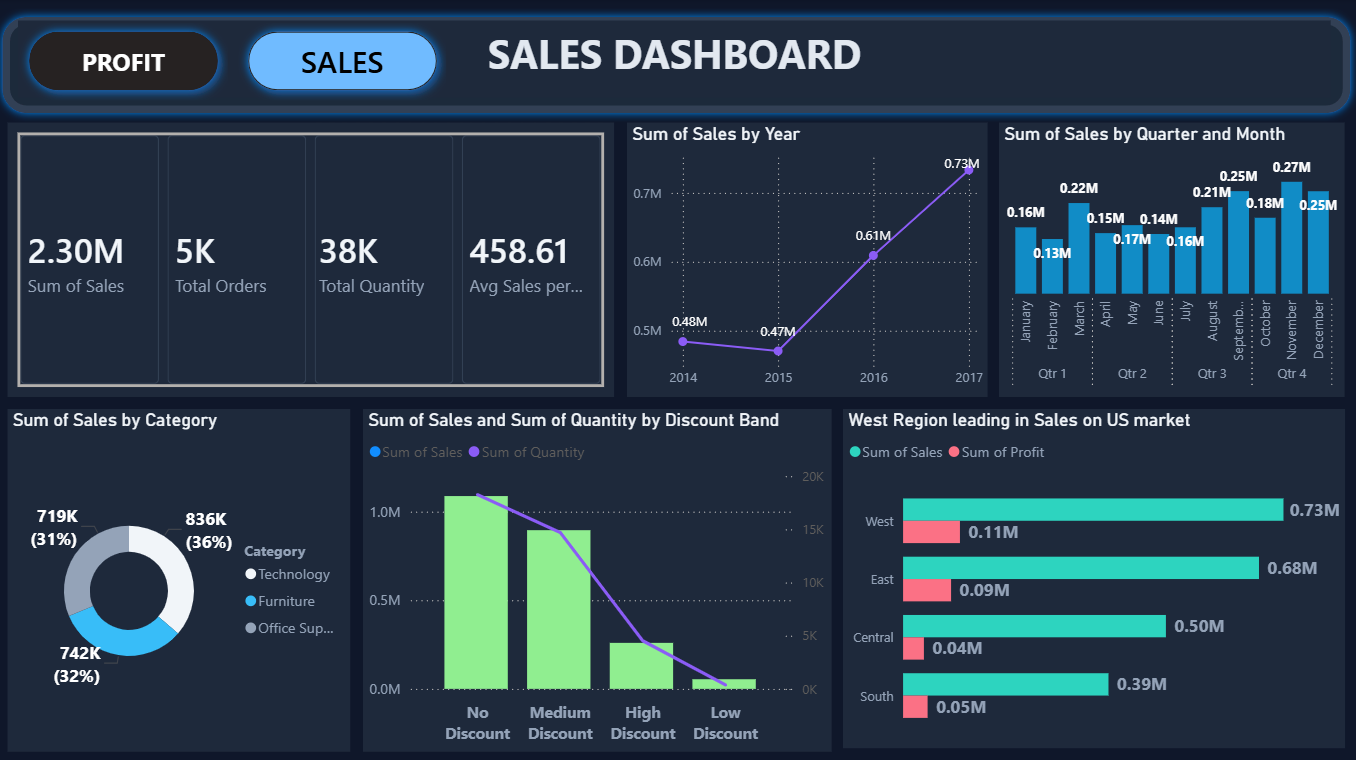

What the dashboard file says about the page in this screenshot:
{"tool":"powerbi","page":{"name":"Page 4","canvas":[1280,720],"ordinal":1},"visuals":[{"type":"shape","box":[0,0,1279.5,720],"z":0},{"type":"shape","box":[0.5,10,1279.5,106],"z":1000},{"type":"textbox","box":[23.1,21.5,1230.8,72.3],"z":2000},{"type":"bookmarkNavigator","box":[23.4,21.8,400.5,73.2],"z":3000},{"type":"donutChart","fields":{"Category":["Sample - Superstore (3).Category"],"Y":["Sum(data.Sales)"]},"box":[12.5,360,321,346],"z":4000},{"type":"lineChart","fields":{"Category":["Sample - Superstore (3).Order Date.Variation.Date Hierarchy.Year"],"Y":["Sum(data.Sales)"]},"box":[593.8,116.9,338.2,257.1],"z":5000},{"type":"clusteredColumnChart","fields":{"Category":["Sample - Superstore (3).Order Date.Variation.Date Hierarchy.Quarter","Sample - Superstore (3).Order Date.Variation.Date Hierarchy.Month"],"Y":["Sum(data.Sales)"]},"box":[942.9,116.9,324.2,257.1],"z":6000},{"type":"lineStackedColumnComboChart","fields":{"Category":["data.Discount Band"],"Y":["Sum(data.Sales)"],"Y2":["Sum(data.Quantity)"]},"box":[346,384.9,439.5,321],"z":7000},{"type":"cardVisual","fields":{"Data":["Sum(Sample - Superstore (3).Sales)","Sum(Sample - Superstore (3).Profit)","Sum(data.Quantity)","data.Profit Margin"]},"box":[12.5,116.9,568.8,232.2],"z":8000},{"type":"clusteredBarChart","title":"West Region  leading in Sales on US market","fields":{"Category":["data.Region"],"Y":["Sum(data.Sales)","Sum(data.Profit)"]},"box":[796.4,384.9,470.6,317.9],"z":9000}]}

Visuals, with their boxes in screenshot pixels (x1, y1, x2, y2), scaled from the page's 1280x720 canvas onto the 1356x760 screenshot:
shape: BBox(0, 0, 1355, 759)
shape: BBox(1, 11, 1355, 122)
textbox: BBox(24, 23, 1328, 99)
bookmarkNavigator: BBox(25, 23, 449, 100)
donutChart - Sample - Superstore (3).Category x Sum(data.Sales): BBox(13, 380, 353, 745)
lineChart - Sample - Superstore (3).Order Date.Variation.Date Hierarchy.Year x Sum(data.Sales): BBox(629, 123, 987, 395)
clusteredColumnChart - Sample - Superstore (3).Order Date.Variation.Date Hierarchy.Quarter x Sample - Superstore (3).Order Date.Variation.Date Hierarchy.Month: BBox(999, 123, 1342, 395)
lineStackedColumnComboChart - data.Discount Band x Sum(data.Sales): BBox(367, 406, 832, 745)
cardVisual - Sum(Sample - Superstore (3).Sales) x Sum(Sample - Superstore (3).Profit): BBox(13, 123, 616, 368)
"West Region  leading in Sales on US market" clusteredBarChart: BBox(844, 406, 1342, 742)
